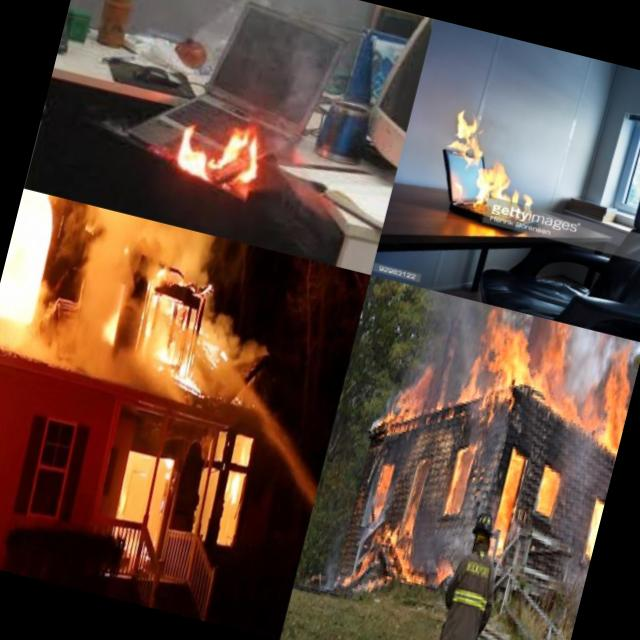fire: (452, 301, 640, 458), (434, 114, 554, 229), (170, 116, 268, 196), (355, 497, 433, 589), (488, 450, 528, 556), (378, 364, 430, 434), (578, 494, 606, 564)
smoke: (255, 28, 357, 212), (54, 242, 148, 393), (42, 195, 218, 272), (0, 281, 73, 390), (542, 441, 606, 561), (406, 289, 480, 385), (316, 516, 354, 596), (552, 560, 588, 614)
